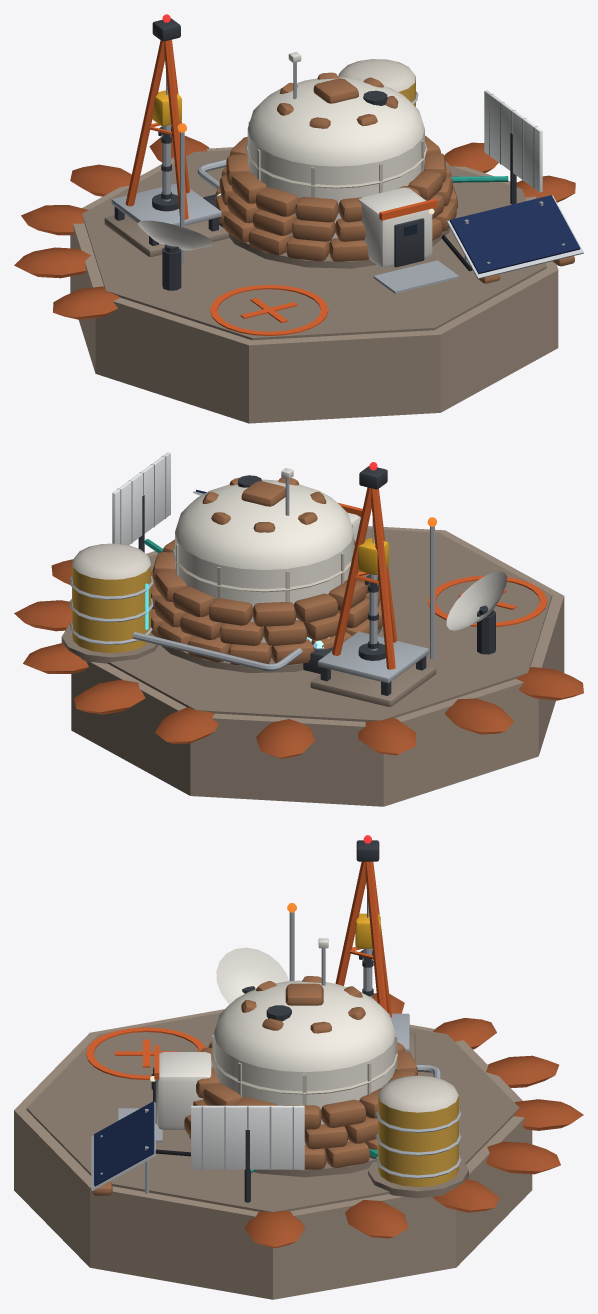
The model's file is ice_outpost.glb.
The picture shows the model from 3 angles, top to bottom: view 1: azimuth 30°, elevation 25°; view 2: azimuth 150°, elevation 25°; view 3: azimuth 270°, elevation 25°; orthographic projection. The views are drawn at different scales.
Visible parts, largest first — view 1: ice_outpost, spin_drill_string.001; view 2: ice_outpost, spin_drill_string.001; view 3: ice_outpost.
Part boxes in pixels (left/top/right/bottom): ice_outpost: left=14, top=14, right=583, bottom=423; spin_drill_string.001: left=158, top=125, right=172, bottom=201; ice_outpost: left=14, top=452, right=583, bottom=806; spin_drill_string.001: left=365, top=573, right=378, bottom=650; ice_outpost: left=14, top=835, right=583, bottom=1299.
Bounding box in the file's own units: 4.92 × 2.66 × 4.51.
